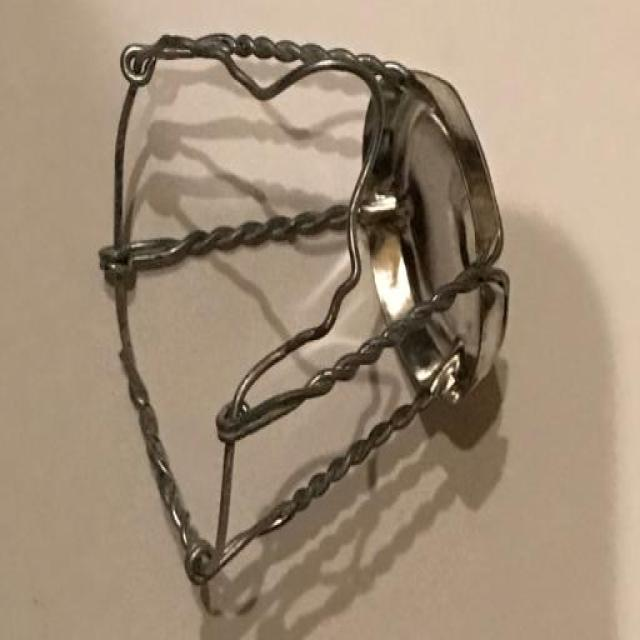Metal: (98, 33, 511, 623)
